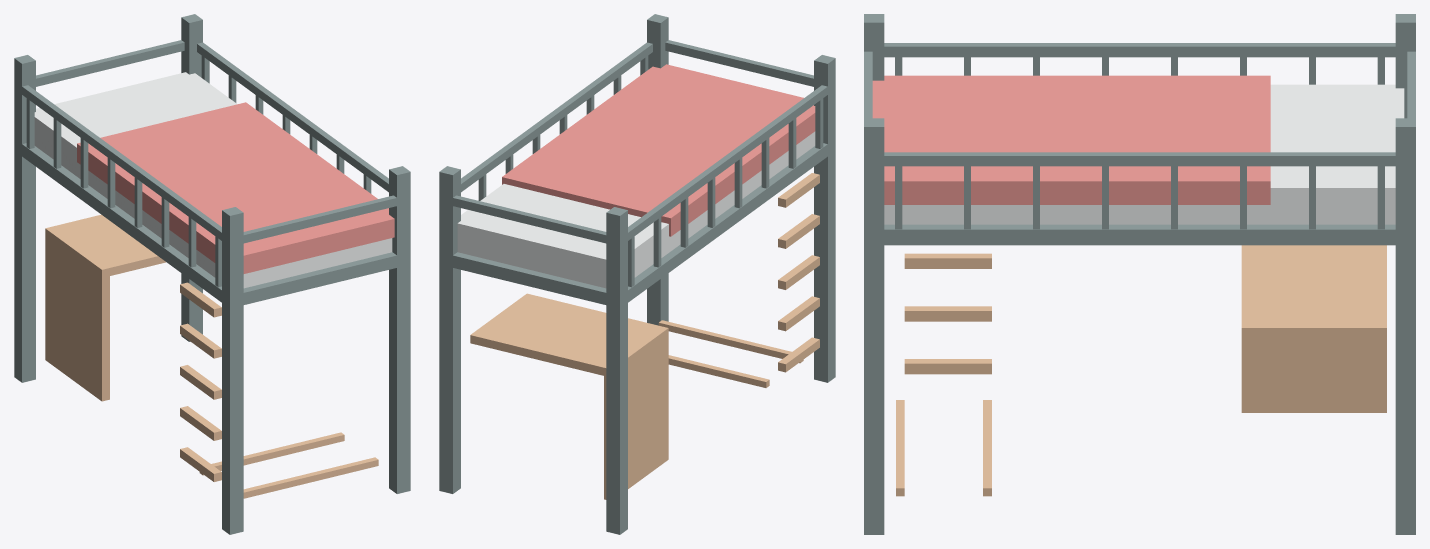
Rendered from kidsLoftBed.glb.
The picture shows the model from 3 angles, left to right: view 1: azimuth 30°, elevation 25°; view 2: azimuth 150°, elevation 25°; view 3: azimuth 270°, elevation 25°; orthographic projection. The views are drawn at different scales.
Parts seen in each view (by area): view 1: kidsLoftBed; view 2: kidsLoftBed; view 3: kidsLoftBed.
Boxes of the visible parts, <box> form: kidsLoftBed: <box>14,14,410,534</box>; kidsLoftBed: <box>439,14,835,534</box>; kidsLoftBed: <box>864,14,1415,534</box>.
Size of the model in its own units: 0.46 by 0.775 by 0.95.
